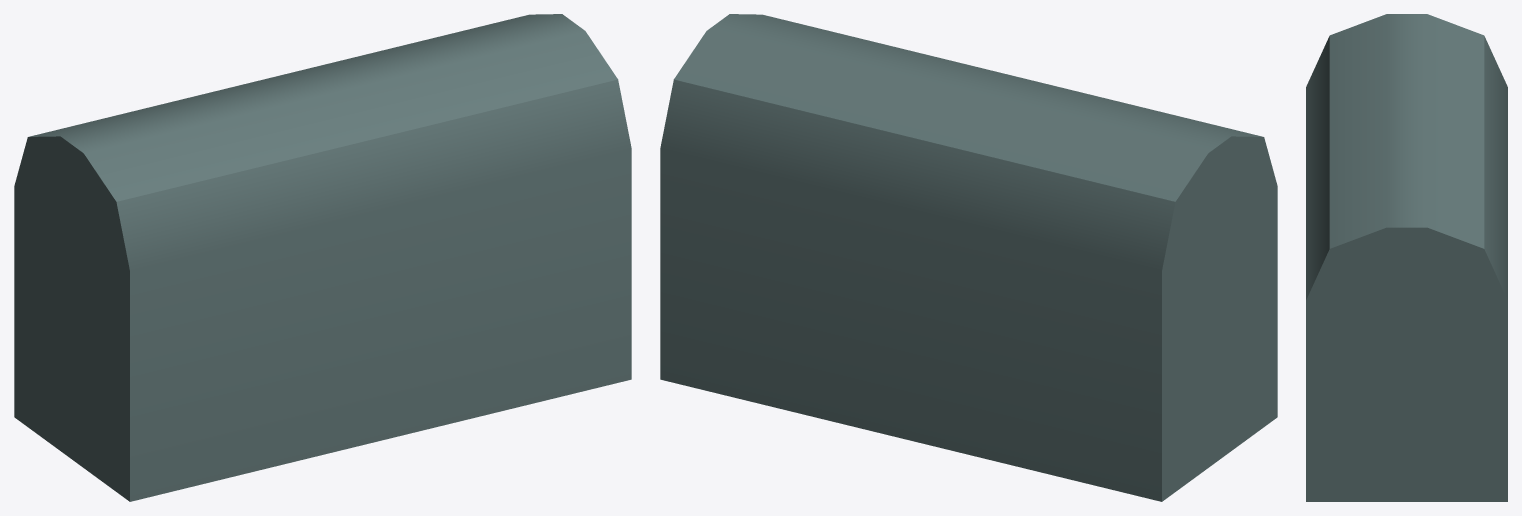
The model's file is middleHedge1.fbx.
3 renders of one model, left to right at view 1: azimuth 30°, elevation 25°; view 2: azimuth 150°, elevation 25°; view 3: azimuth 270°, elevation 25°, orthographic. The views are drawn at different scales.
Parts seen in each view (by area): view 1: middleHedge1; view 2: middleHedge1; view 3: middleHedge1.
Part boxes in pixels (<box>): middleHedge1: <box>14,14,631,501</box>; middleHedge1: <box>660,14,1277,501</box>; middleHedge1: <box>1306,14,1507,501</box>.
Bounding box in the file's own units: 100 × 60 × 40.
